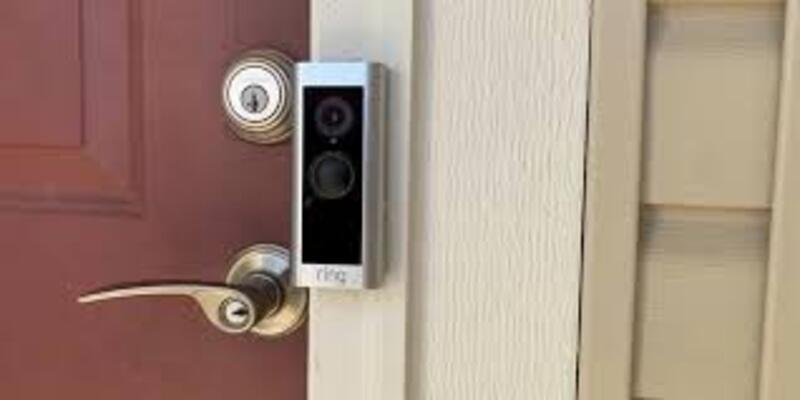doorbell: (285, 51, 381, 302)
